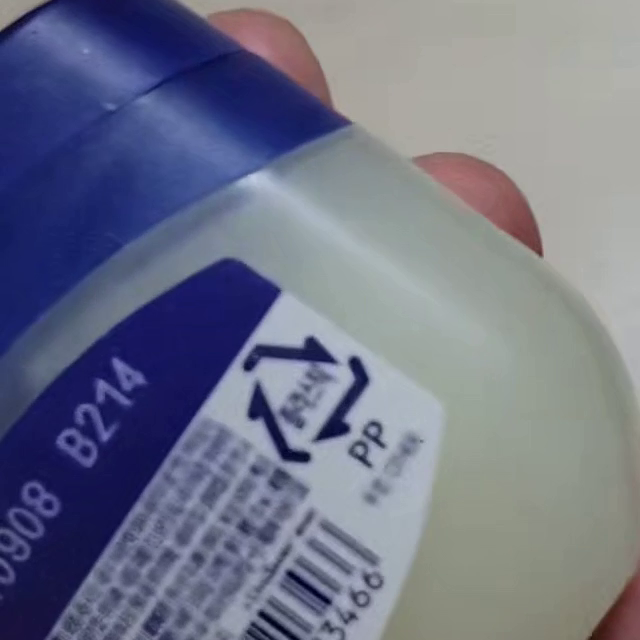Plastic: (241, 335, 369, 465)
